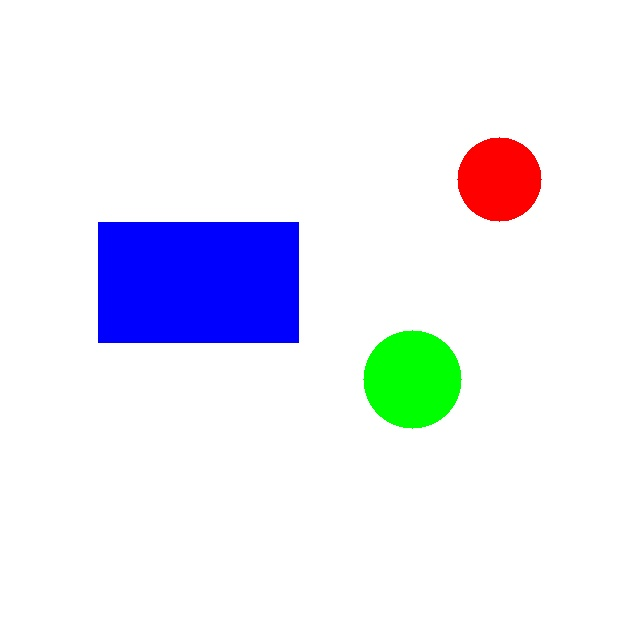cartao: (98, 222, 298, 342)
rosca_externa: (363, 330, 461, 428)
rosca_interna: (457, 137, 541, 221)
